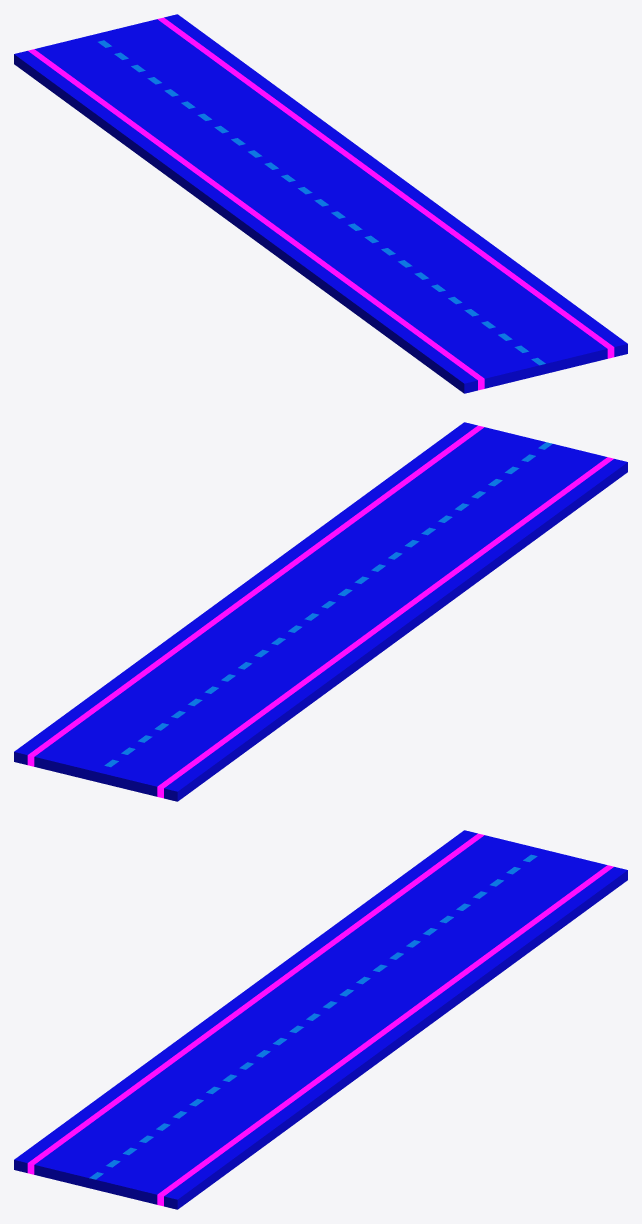
Rendered from road_1.fbx.
3 renders of one model, top to bottom at view 1: azimuth 30°, elevation 25°; view 2: azimuth 150°, elevation 25°; view 3: azimuth 330°, elevation 25°, orthographic.
Parts seen in each view (by area): view 1: Box006; view 2: Box006; view 3: Box006.
Part boxes in pixels (bbox=[...]): Box006: bbox=[14, 14, 627, 393]; Box006: bbox=[14, 422, 627, 801]; Box006: bbox=[14, 830, 627, 1209].
Size of the model in its own units: 200 by 11.78 by 953.
